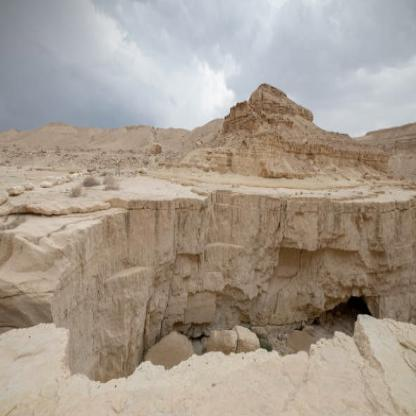Sedimentary_Sandstone: (214, 81, 323, 173), (297, 186, 415, 258), (115, 173, 211, 260), (0, 316, 74, 415), (0, 198, 77, 284), (355, 307, 415, 415), (211, 187, 285, 261), (91, 279, 159, 347), (175, 283, 243, 345), (269, 351, 326, 415), (164, 376, 250, 415), (268, 283, 333, 331), (82, 368, 144, 415)
